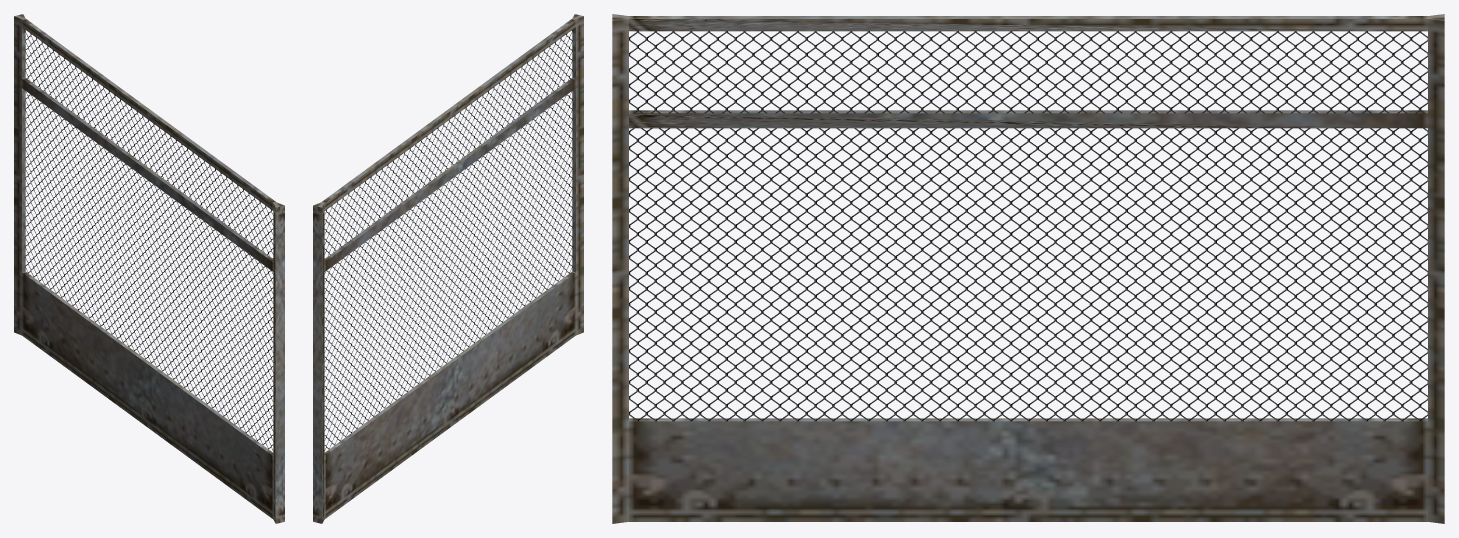
Rendered from M11Z1_MeshGateB.glb.
3 views of the same model, side by side, from view 1: azimuth 30°, elevation 25°; view 2: azimuth 150°, elevation 25°; view 3: azimuth 270°, elevation 25° (orthographic). The views are drawn at different scales.
Visible parts, largest first — view 1: M11Z1_MESHGATEB; view 2: M11Z1_MESHGATEB; view 3: M11Z1_MESHGATEB.
Boxes of the visible parts, bbox=[...] form: M11Z1_MESHGATEB: bbox=[14, 14, 284, 523]; M11Z1_MESHGATEB: bbox=[313, 14, 583, 523]; M11Z1_MESHGATEB: bbox=[612, 14, 1444, 523].
Bounding box in the file's own units: 0.06 × 2 × 3.
2 materials, 2 textured.
